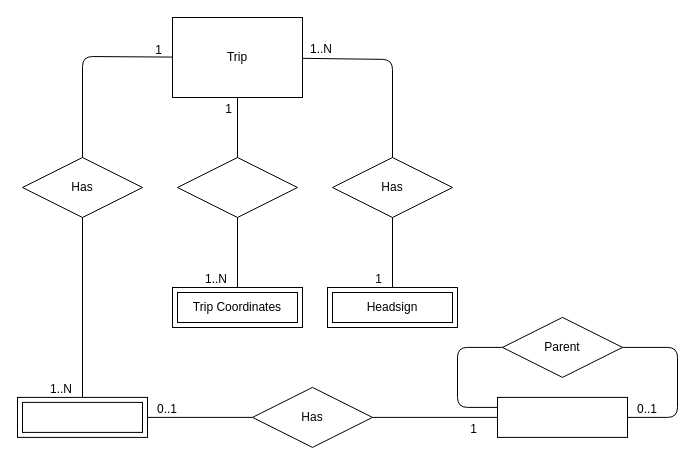
Image size: 696x465. Some labels were removed from this diagram. Here are the shapes that lost their labels. From the top down, the box of each, then its label:
(176, 156, 298, 218): Store history
(16, 396, 148, 437): Ride
(496, 396, 628, 437): Stop
